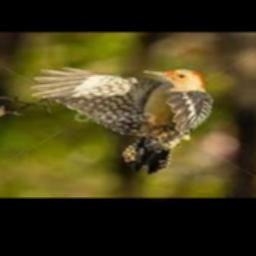Woodpecker: (31, 67, 215, 174)
